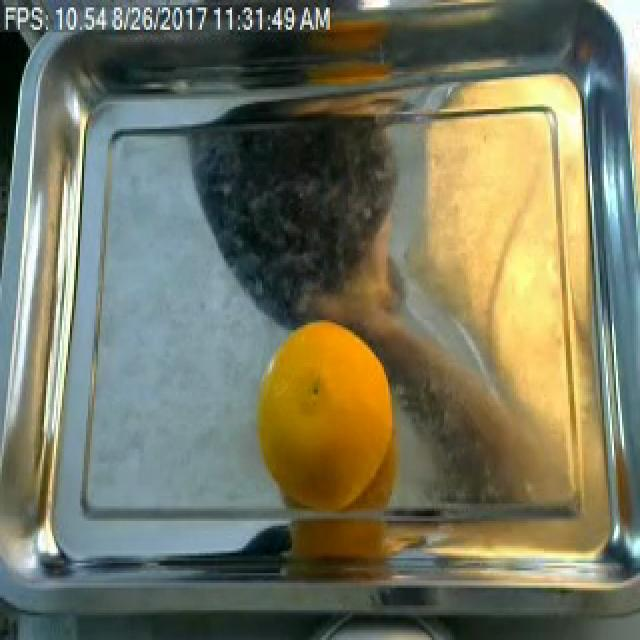Fruit: (404, 109, 576, 367), (252, 320, 398, 518)
